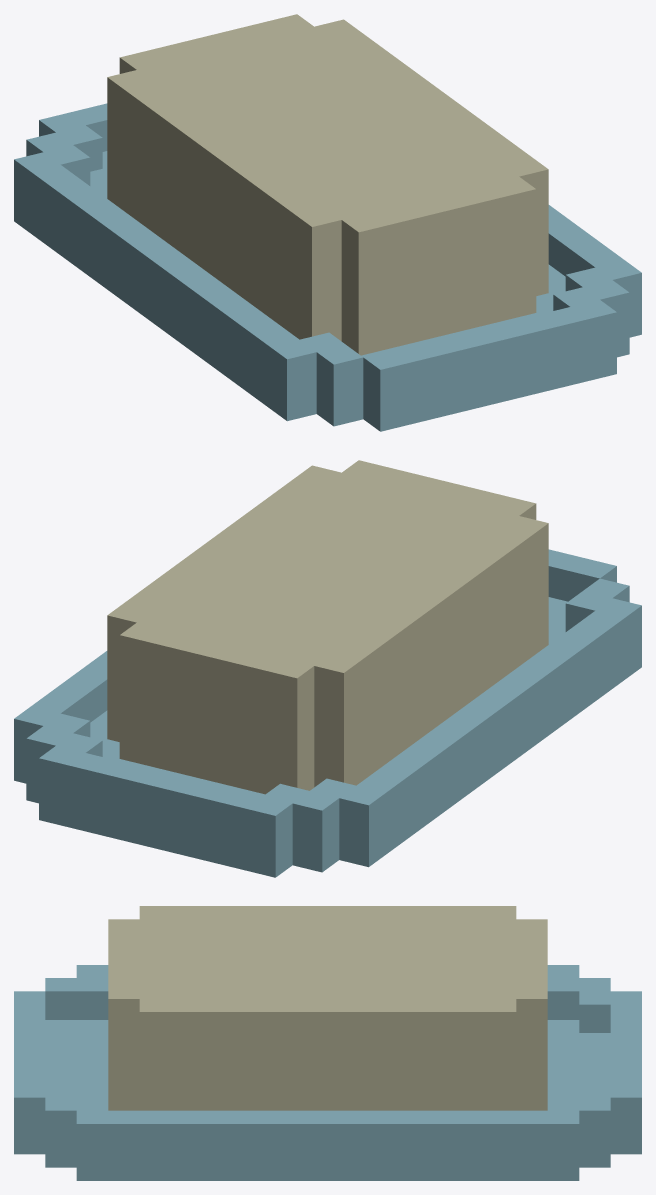
File: Soap.obj
3 renders of one model, top to bottom at view 1: azimuth 30°, elevation 25°; view 2: azimuth 150°, elevation 25°; view 3: azimuth 270°, elevation 25°, orthographic. The views are drawn at different scales.
Size of the model in its own units: 1.2 by 0.5 by 2.
Materials: 1 (1 with a texture image).
